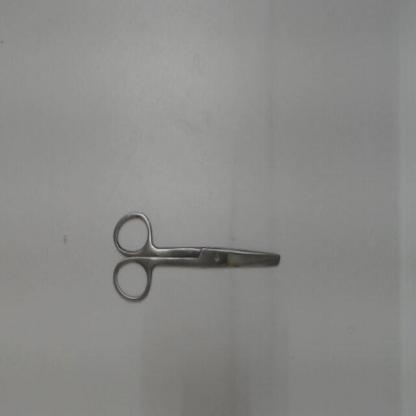Dressing Scissors: (103, 199, 290, 311)
